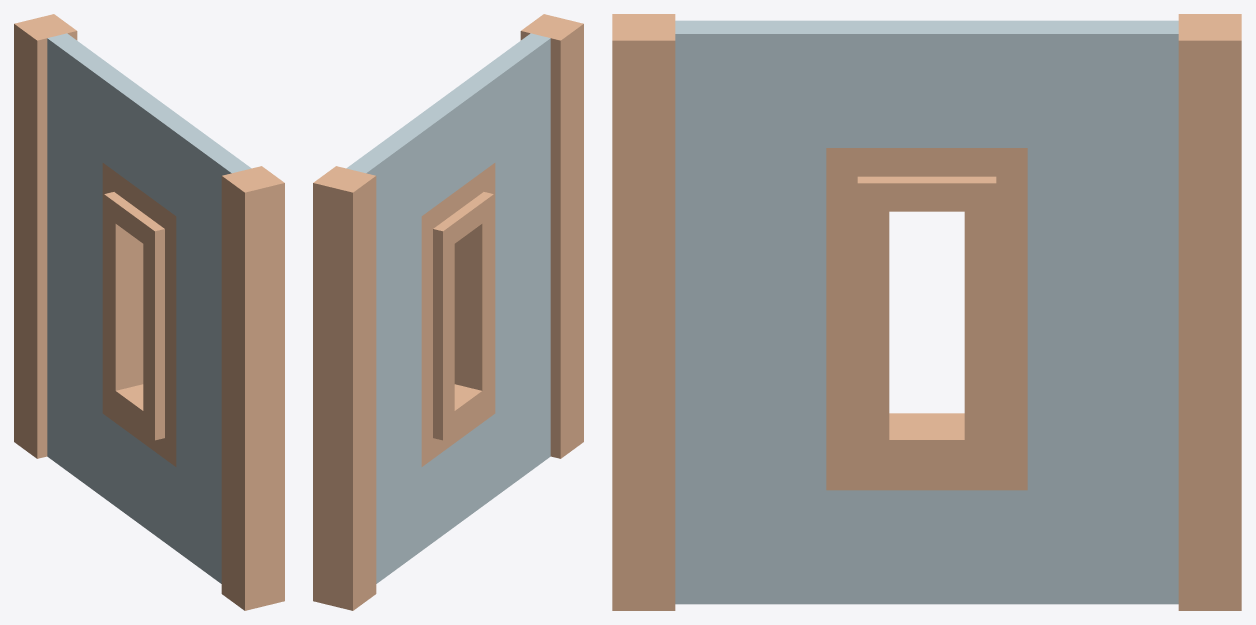
Rendered from wallWindowSmall.glb.
The picture shows the model from 3 angles, left to right: view 1: azimuth 30°, elevation 25°; view 2: azimuth 150°, elevation 25°; view 3: azimuth 270°, elevation 25°; orthographic projection. The views are drawn at different scales.
Parts seen in each view (by area): view 1: wallWindowSmall; view 2: wallWindowSmall; view 3: wallWindowSmall.
Part boxes in pixels (x1,y1,x2,y2): wallWindowSmall: [14, 14, 284, 610]; wallWindowSmall: [313, 14, 583, 610]; wallWindowSmall: [612, 14, 1241, 610].
Bounding box in the file's own units: 0.1 × 1 × 1.
